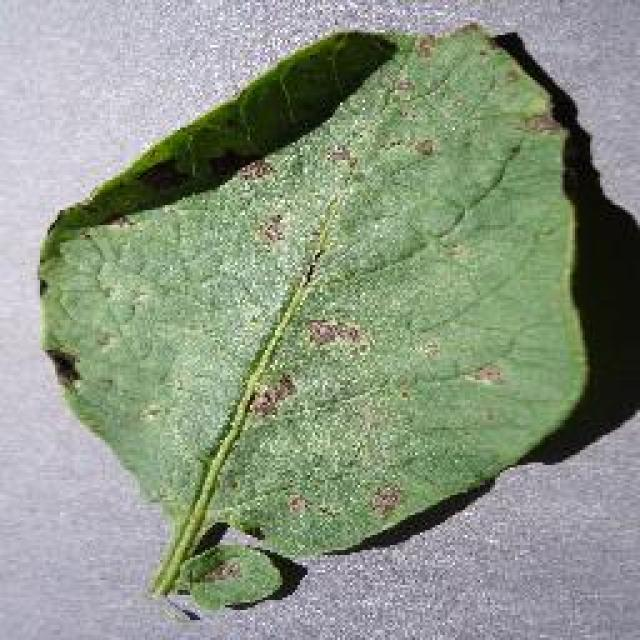early_blight: (33, 20, 595, 612)
